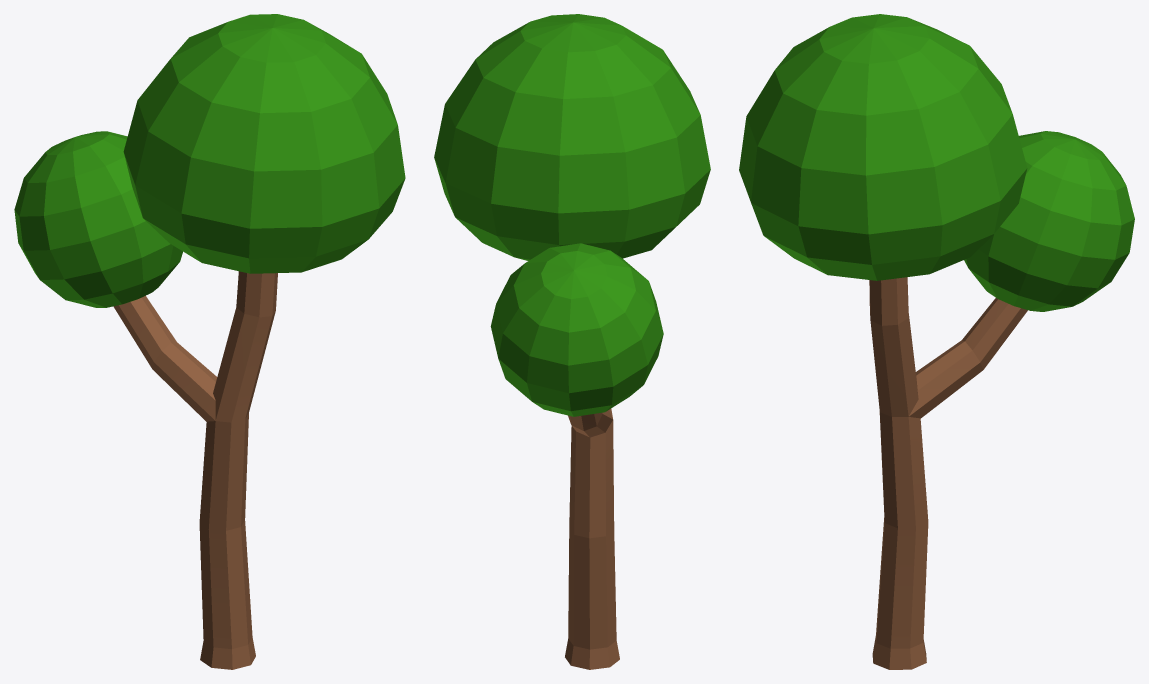
File: Prop_Decorative_Tree_Elm_4.obj
3 views of the same model, side by side, from view 1: azimuth 30°, elevation 25°; view 2: azimuth 150°, elevation 25°; view 3: azimuth 270°, elevation 25° (orthographic). The views are drawn at different scales.
Parts seen in each view (by area): view 1: Leaves, Trunk; view 2: Leaves, Trunk; view 3: Leaves, Trunk.
Boxes of the visible parts, x1,y1,x2,y2 form: Leaves: (14, 14, 405, 307); Trunk: (113, 271, 277, 669); Leaves: (434, 14, 710, 416); Trunk: (565, 408, 619, 669); Leaves: (739, 14, 1134, 311); Trunk: (869, 277, 1027, 669).
Bounding box in the file's own units: 2.29 × 4.91 × 2.73.
